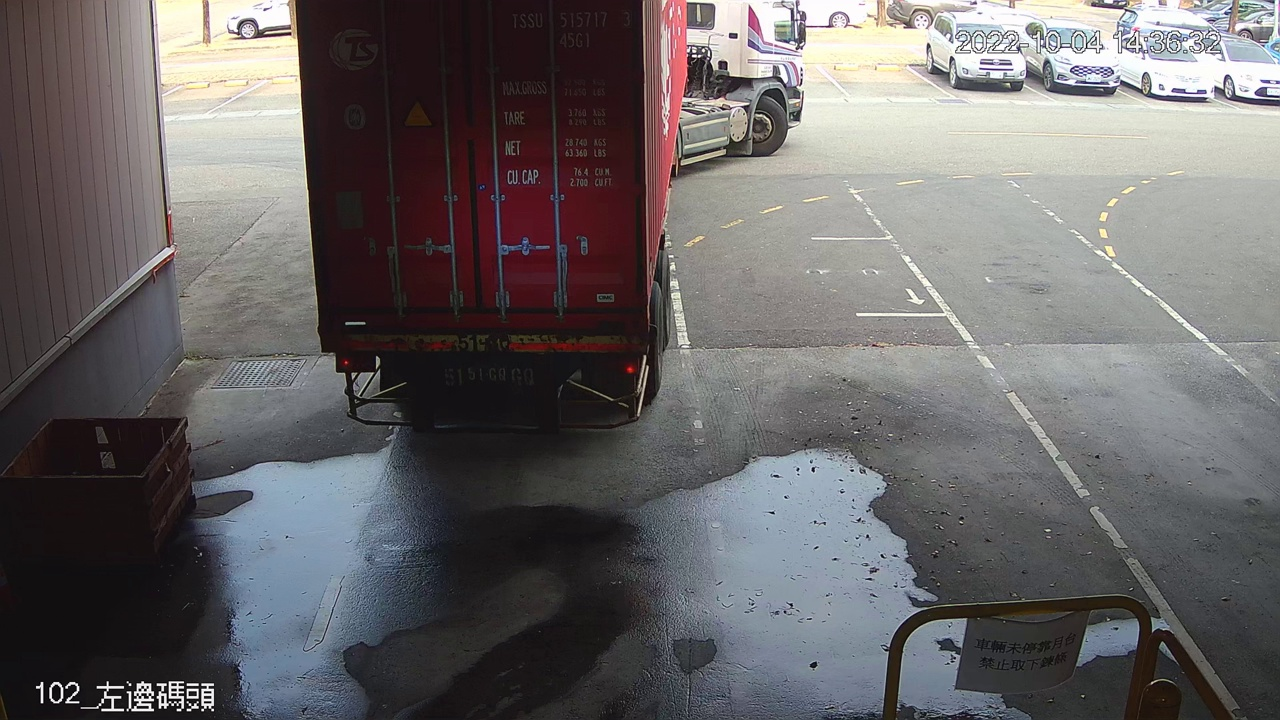container: (506, 4, 636, 56)
